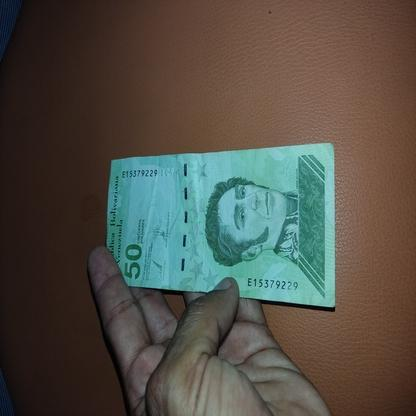dollar_front: (105, 142, 336, 308)
